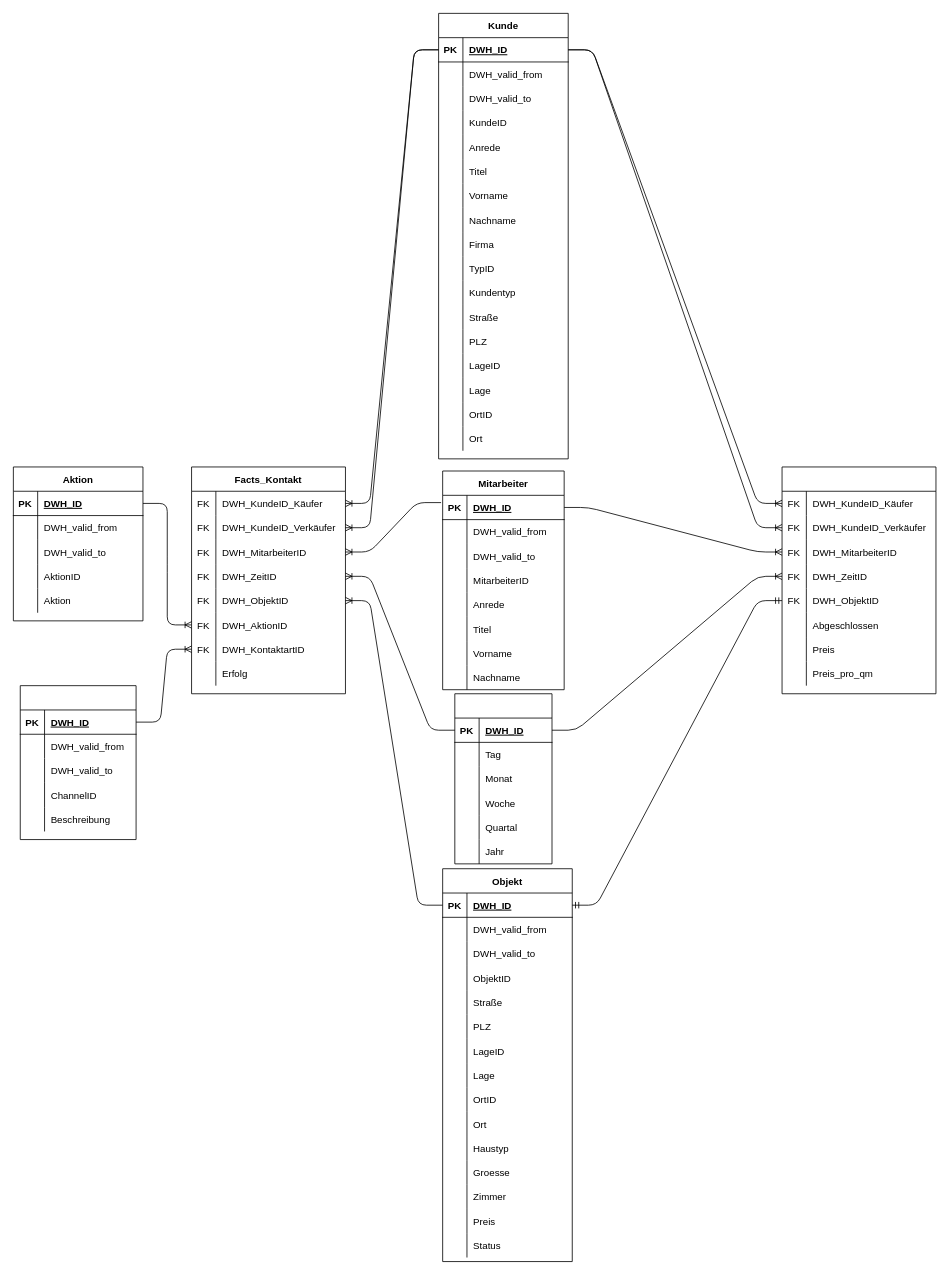
Some shapes in this 949 by 1275 pixel diagram are drawn without their labels. Each missing label, with the box of its shape:
Facts_Kauf: (781, 466, 936, 694)
Kontaktart: (19, 685, 136, 840)
Zeit: (454, 693, 552, 864)
